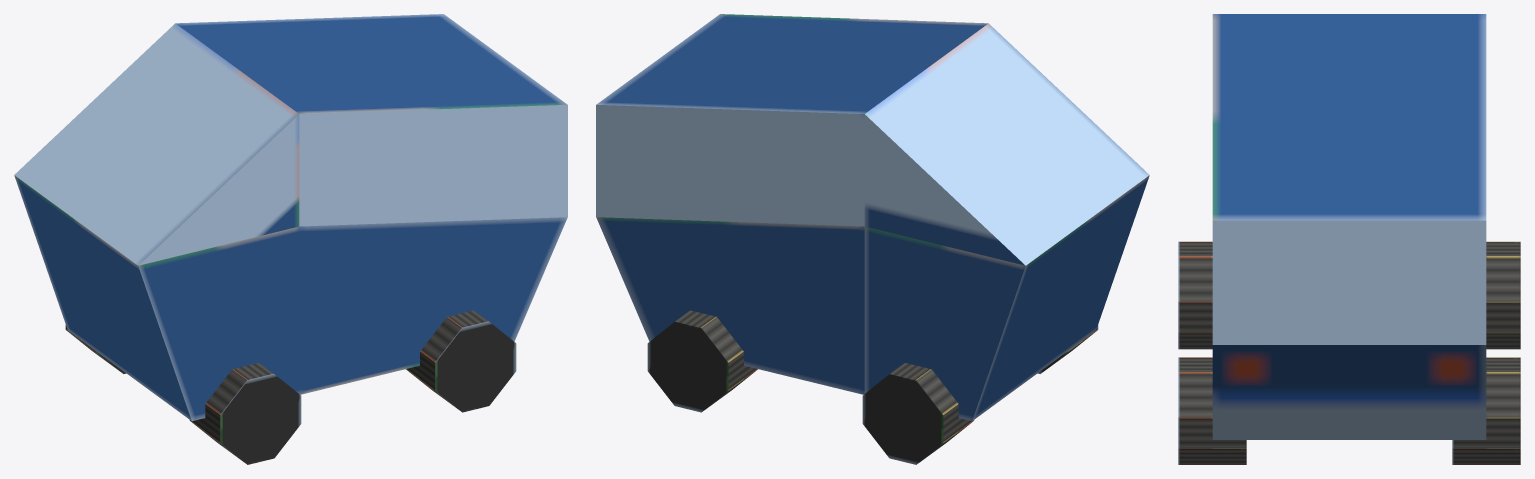
File: Car1.obj
3 views of the same model, side by side, from view 1: azimuth 30°, elevation 25°; view 2: azimuth 150°, elevation 25°; view 3: azimuth 270°, elevation 25° (orthographic). The views are drawn at different scales.
Parts seen in each view (by area): view 1: Car1; view 2: Car1; view 3: Car1.
Boxes of the visible parts, bbox=[...] form: Car1: bbox=[14, 14, 567, 464]; Car1: bbox=[596, 14, 1149, 464]; Car1: bbox=[1178, 14, 1520, 464].
Size of the model in its own units: 2 by 1.44 by 1.25.
Materials: 1 (1 with a texture image).
